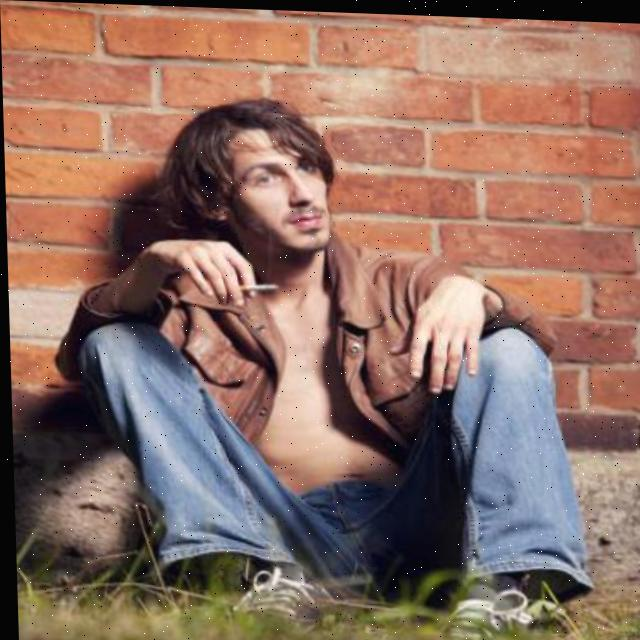cigarette: (233, 280, 284, 291)
